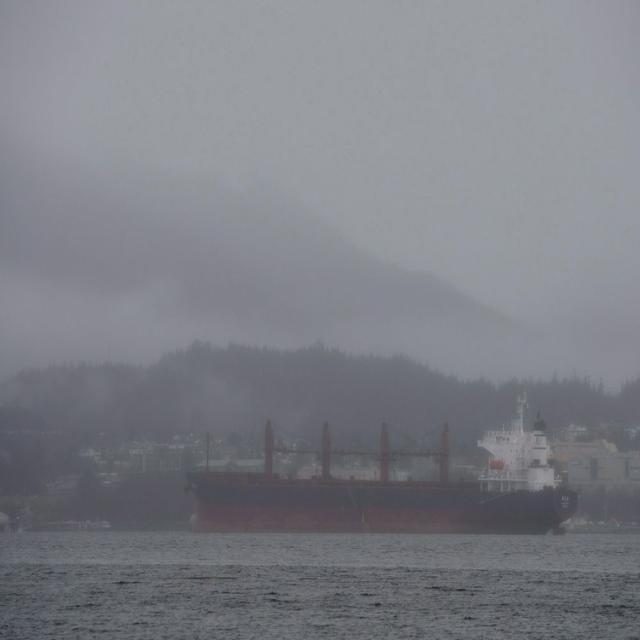cargoship: (188, 404, 575, 535)
